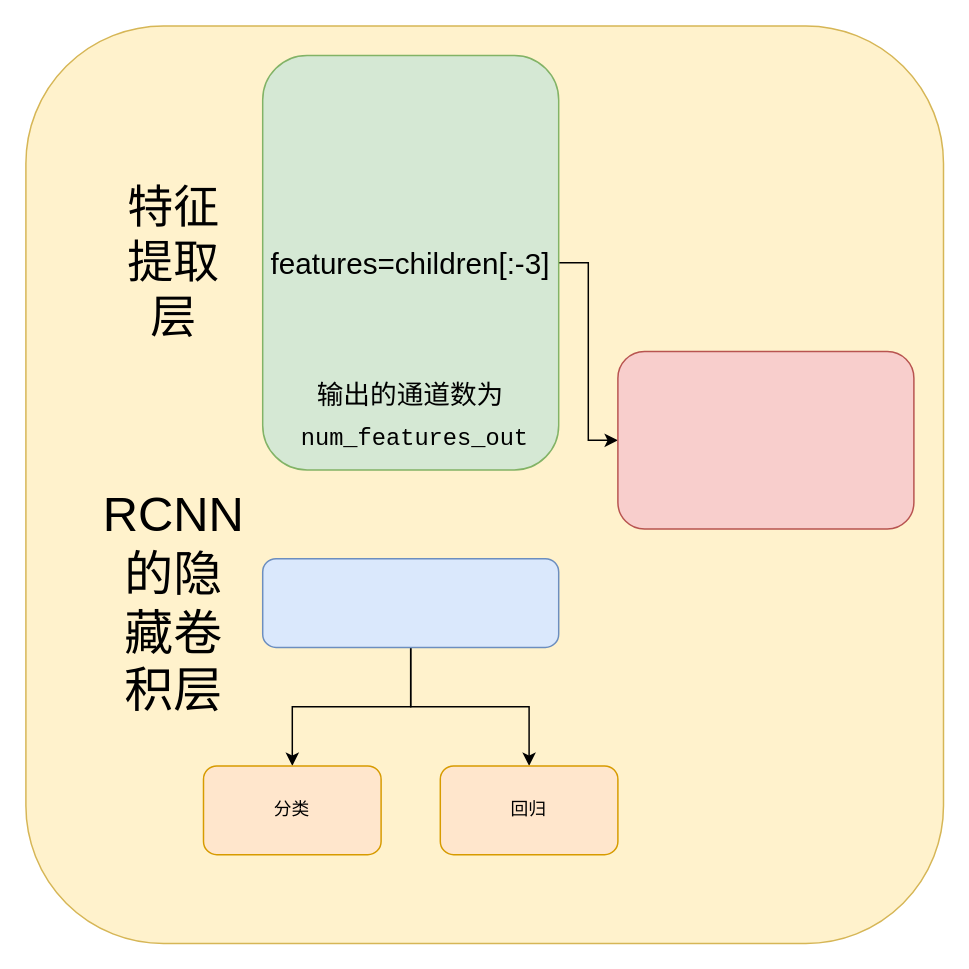
Image size: 969x969. Some labels were removed from this diagram. The centre of each missing label's shape, as x and y in pixels:
"Hidden=children[-3] num_hidden_out" belongs at (410,602).
"RPN num_features_out用于 初始化RPN的第一个卷积" belongs at (765,439).
